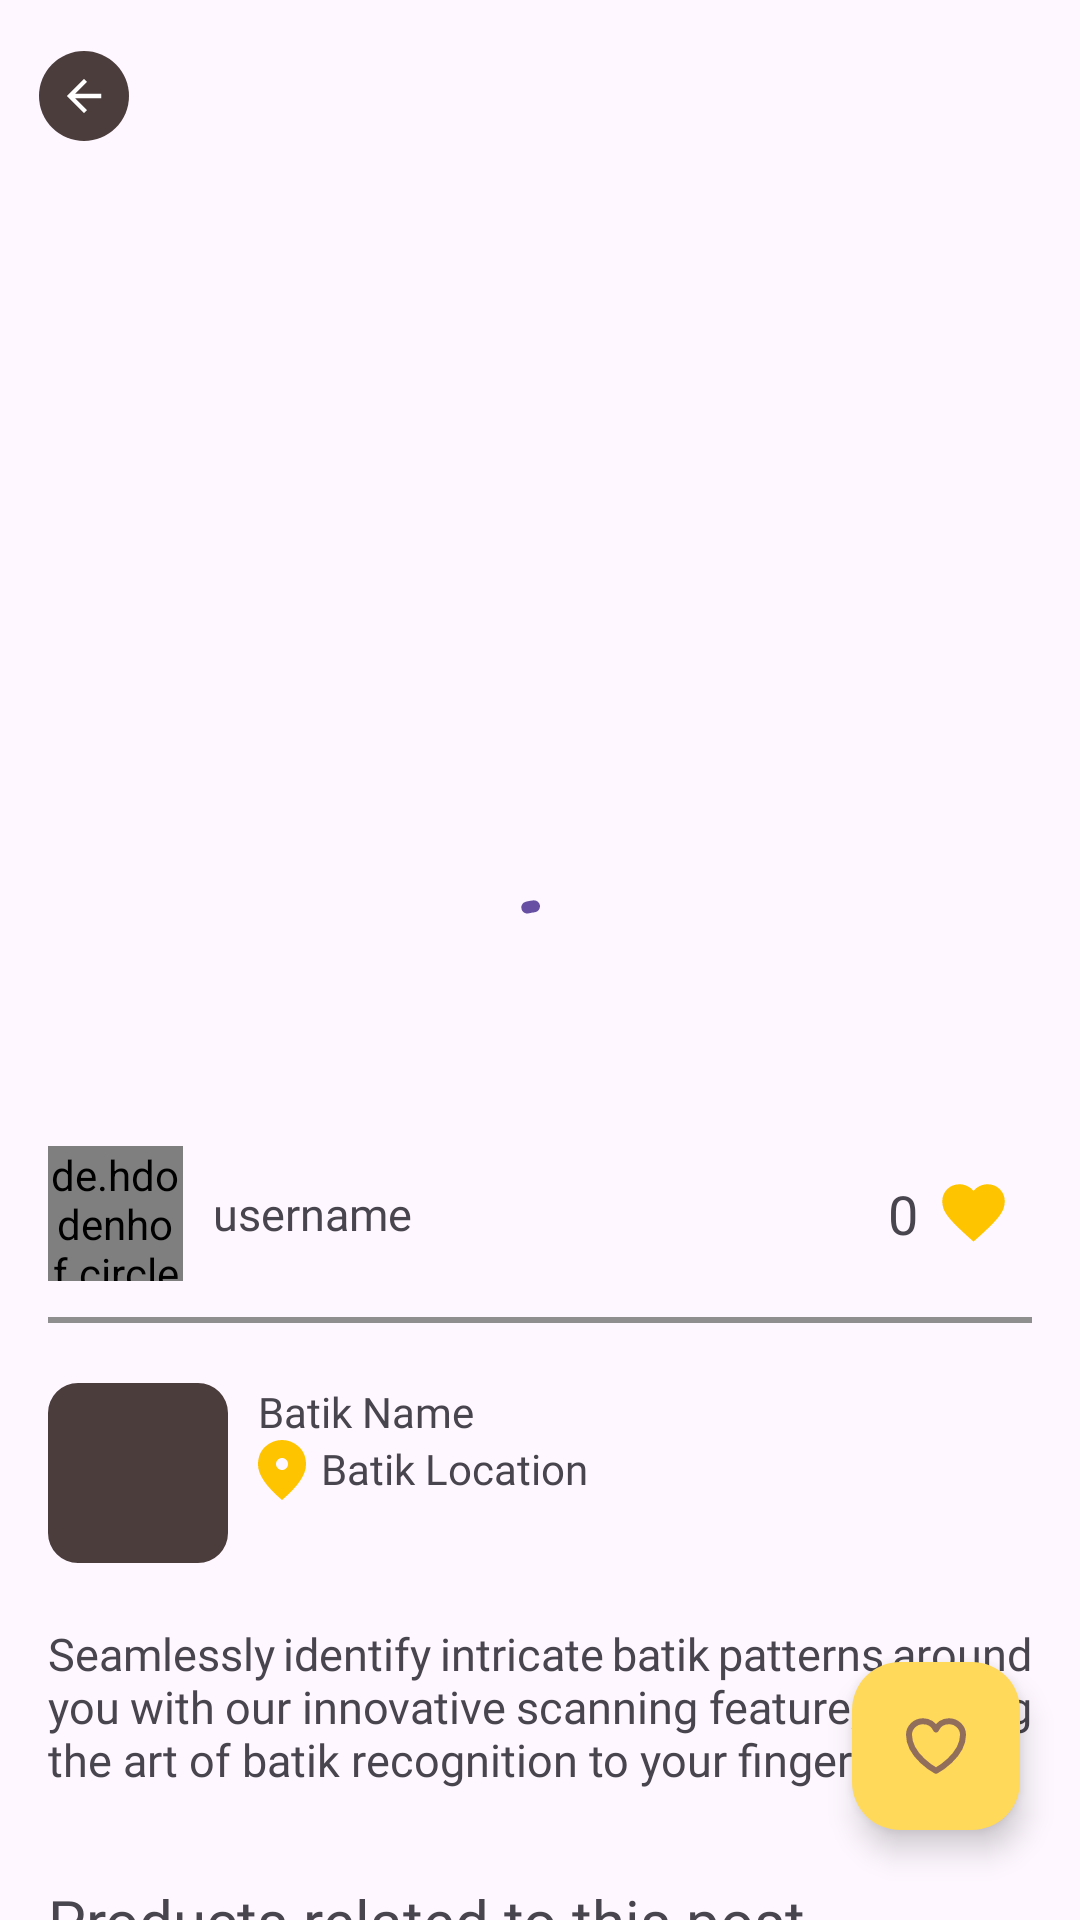

Point at icon controls on the screen. Image size 1080 × 1920, points as [x,y].
likes: [973,1213]
likes unfill: [936,1746]
